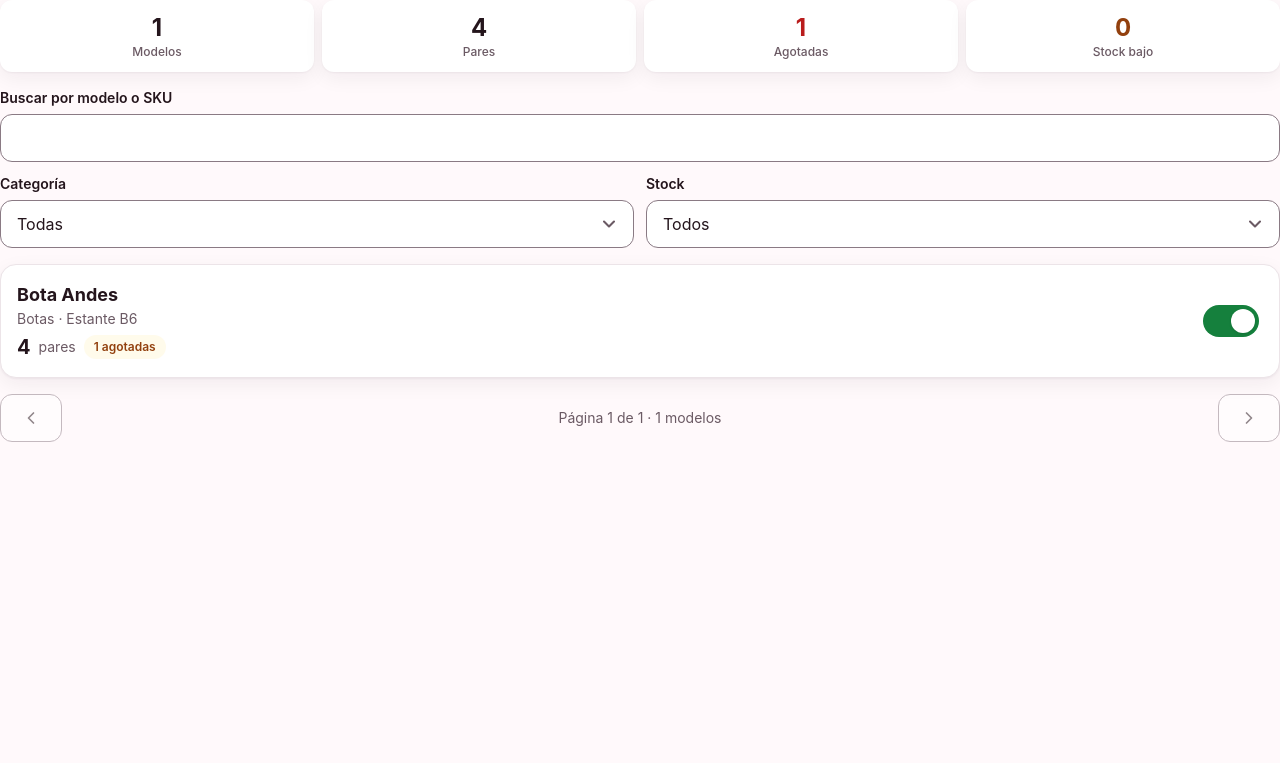
Test case: Inventario: movimientos por la cola — encola con su clave de idempotencia y muestra "Listo" al aplicarse
This screenshot has width=1280, height=763.
Click the button "Bota Andes Botas · Estante B6 4 pares 1 agotadas": [68, 294] box [17,273,1191,369]
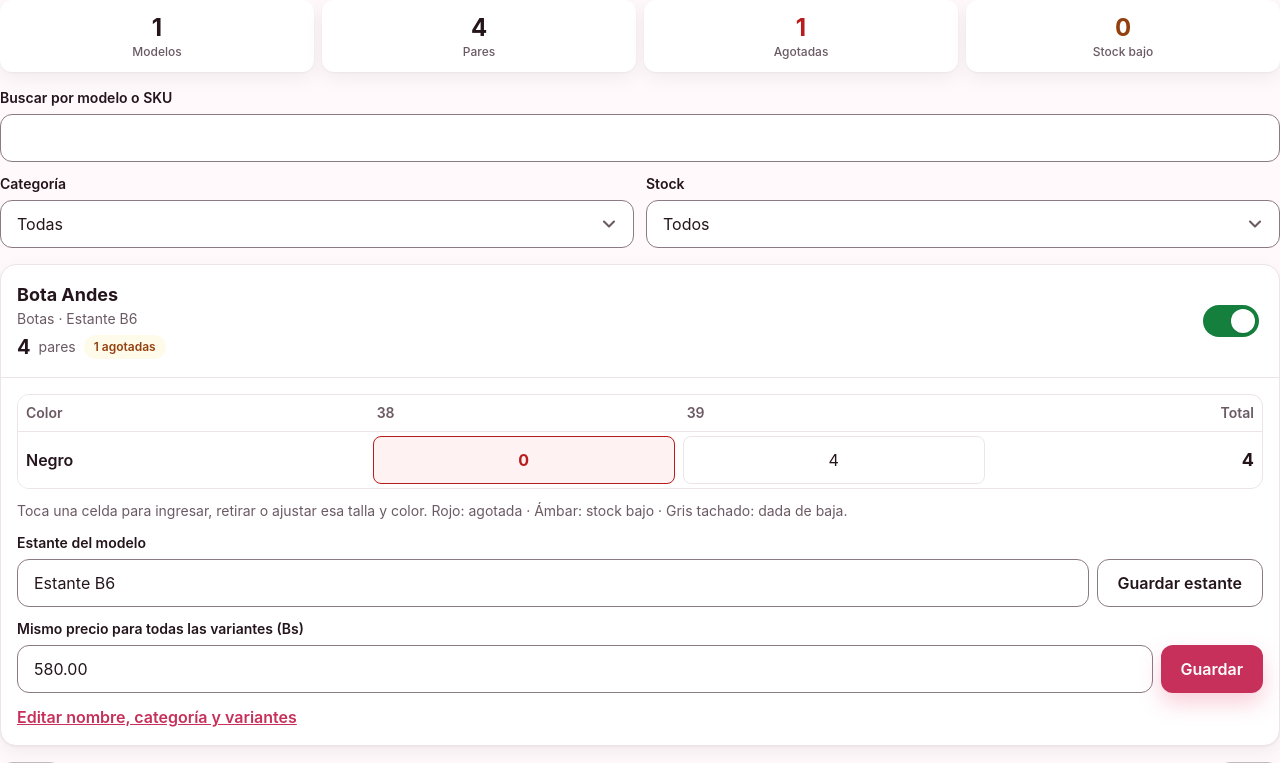
Click the button named "Talla 39 Negro: 4 disponibles": [834, 460] box [683,436,985,484]
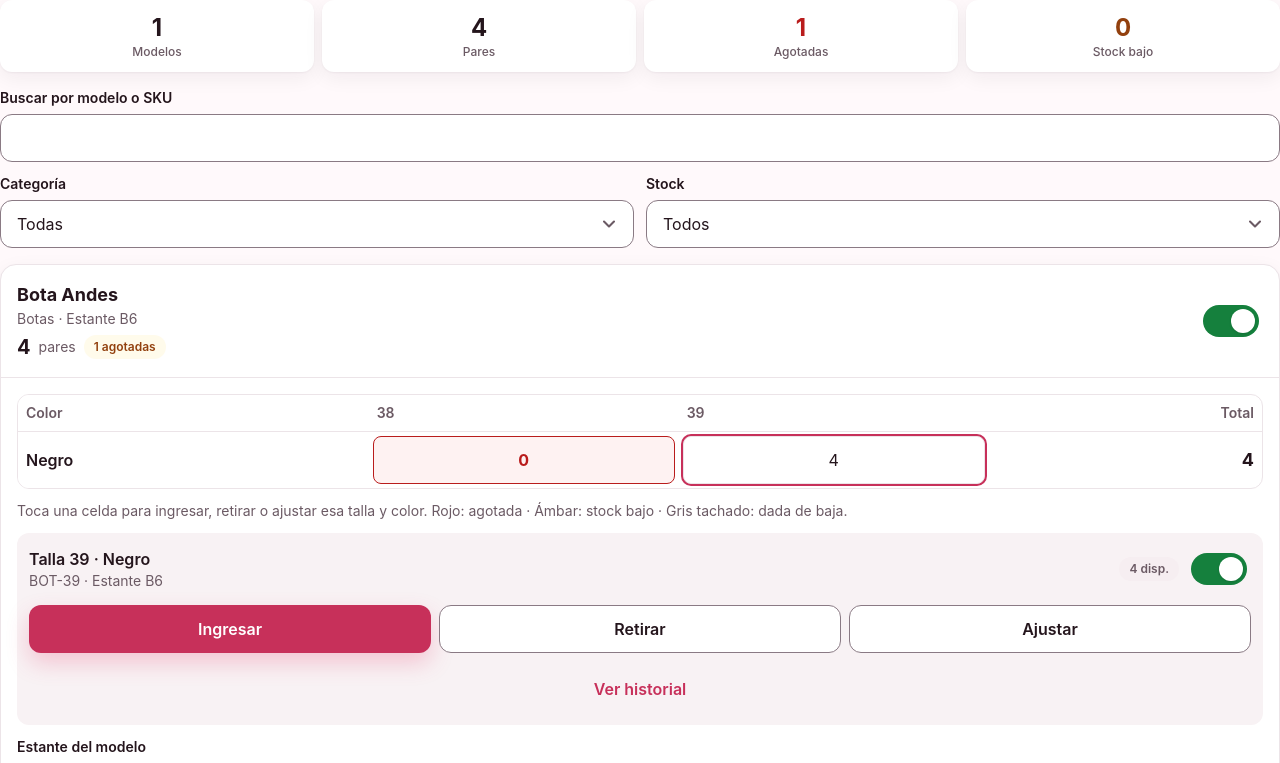
Click the button "Ingresar": [230, 629] box [29,605,431,653]
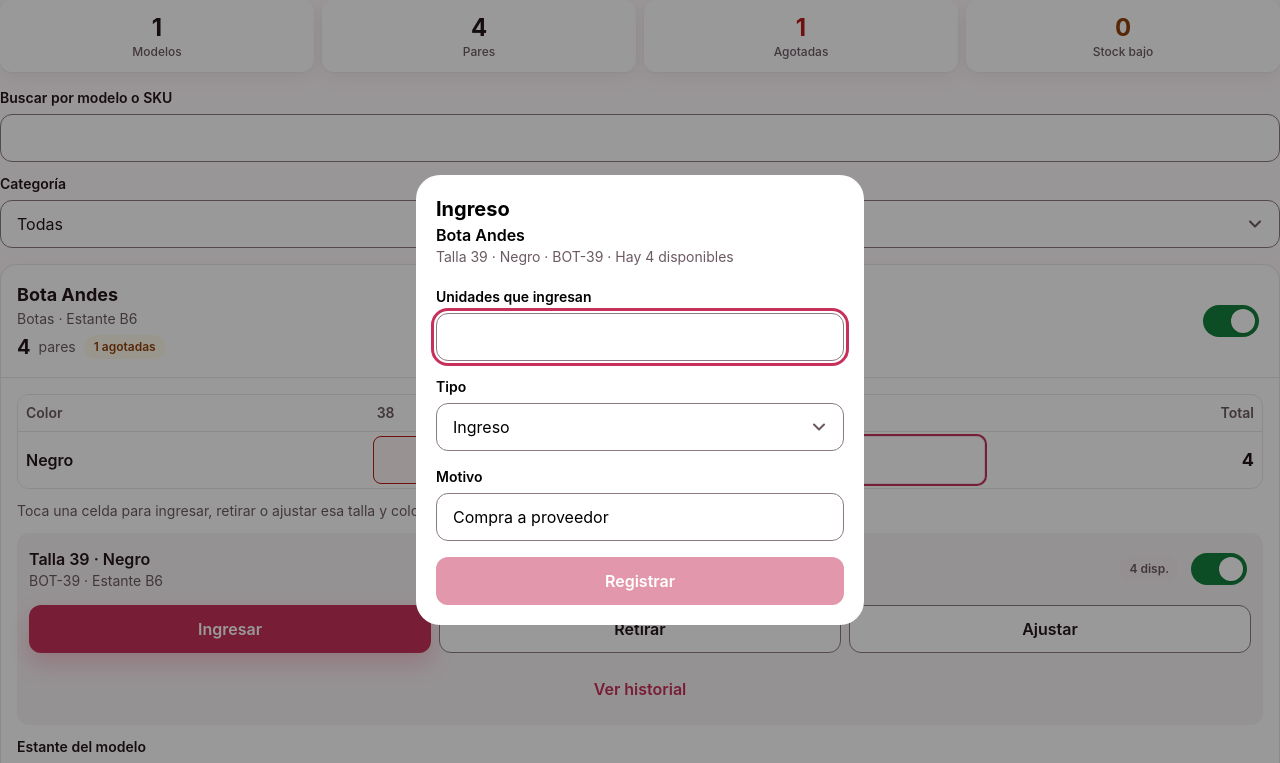
In the field labelled "Unidades que ingresan": [640, 337] box [436,313,844,361], type "3"
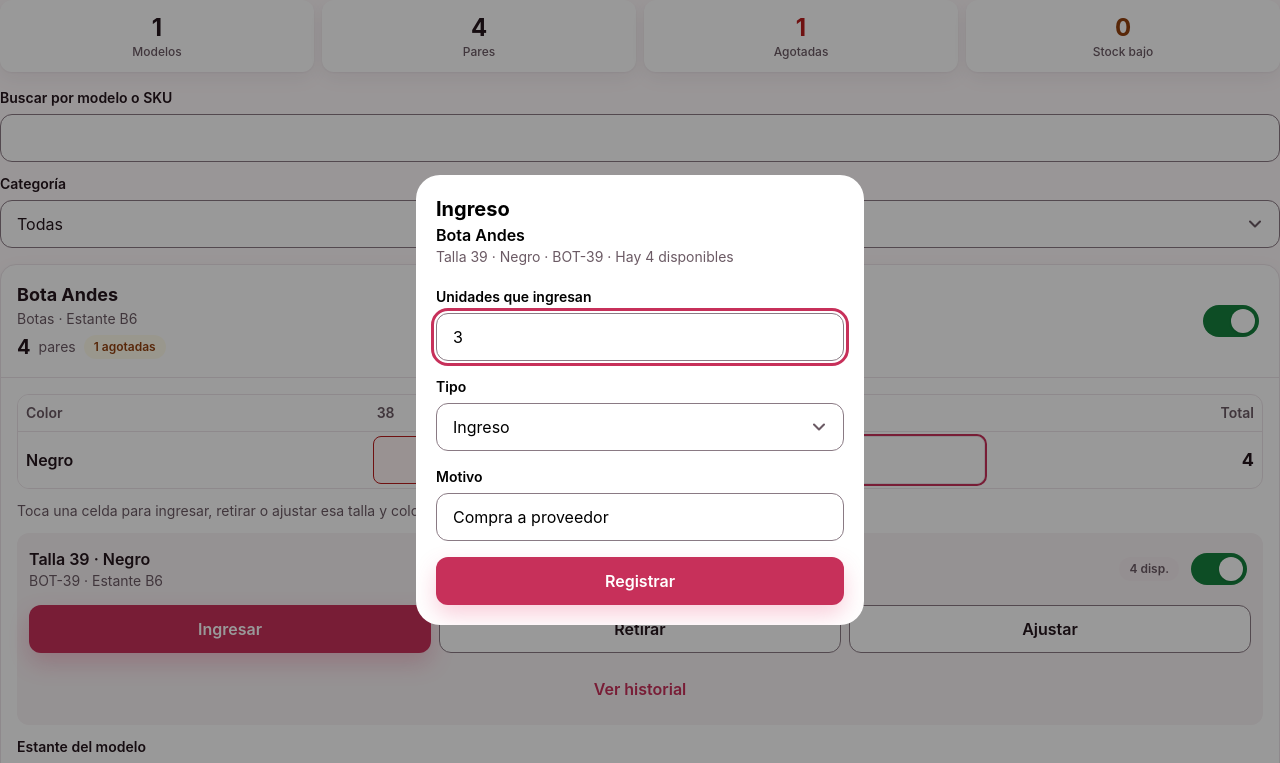
Click the button "Registrar": [640, 581] box [436,557,844,605]
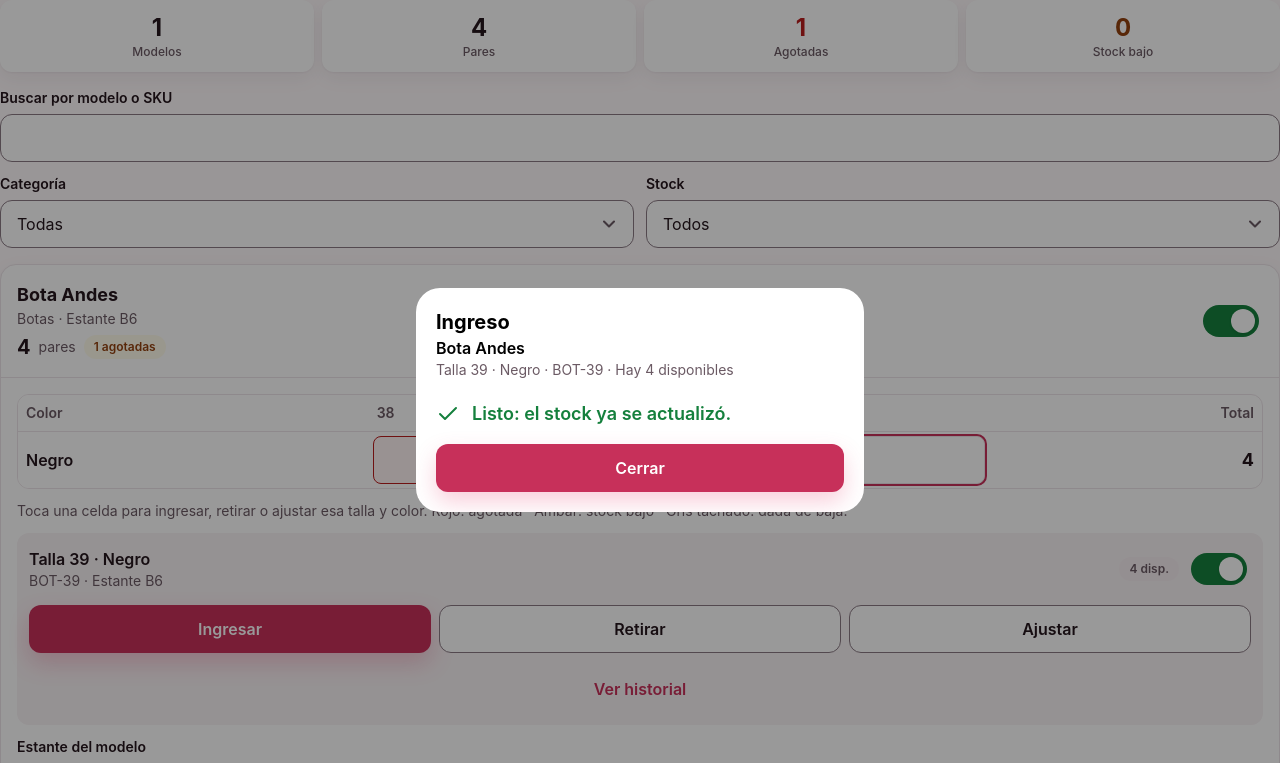
Now the text "Listo: el stock ya se actualizó." is shown, box [436,402,731,426]
